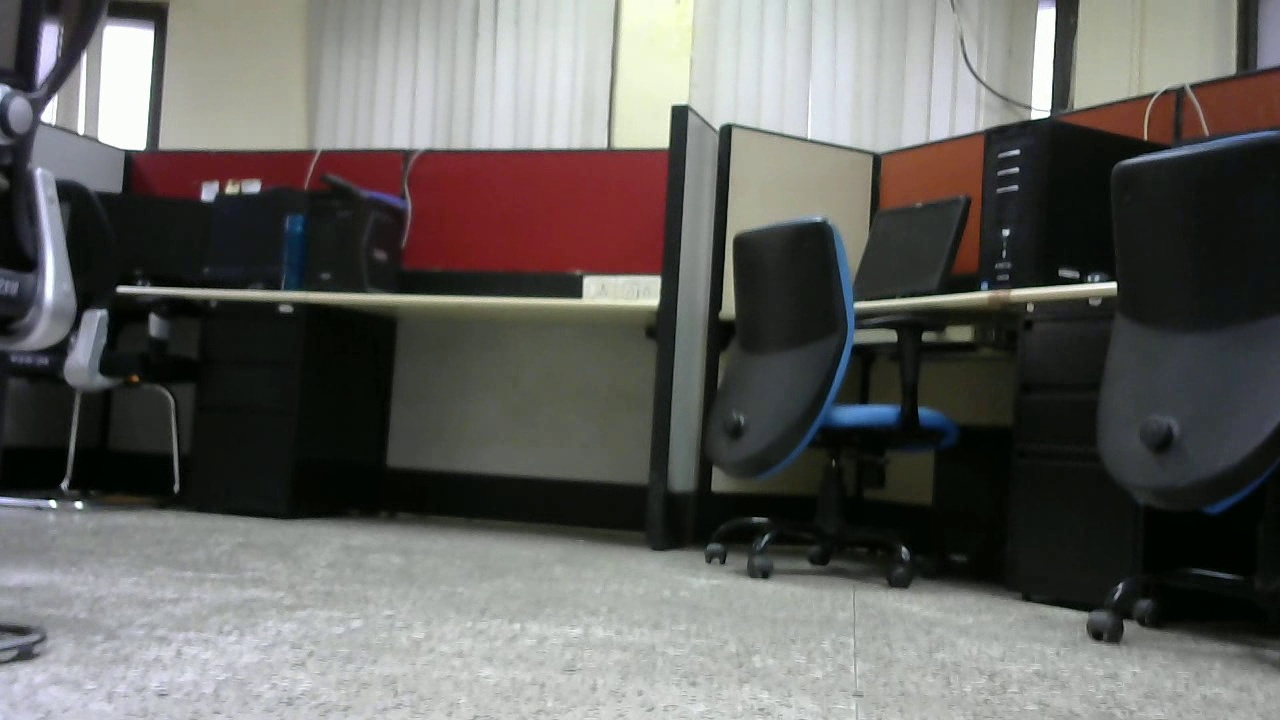chair: (665, 219, 959, 594)
